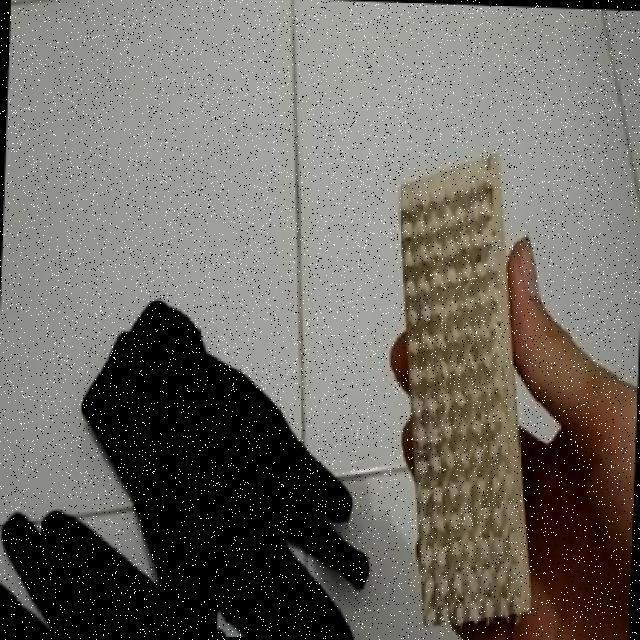no-gloves: (388, 241, 640, 628)
